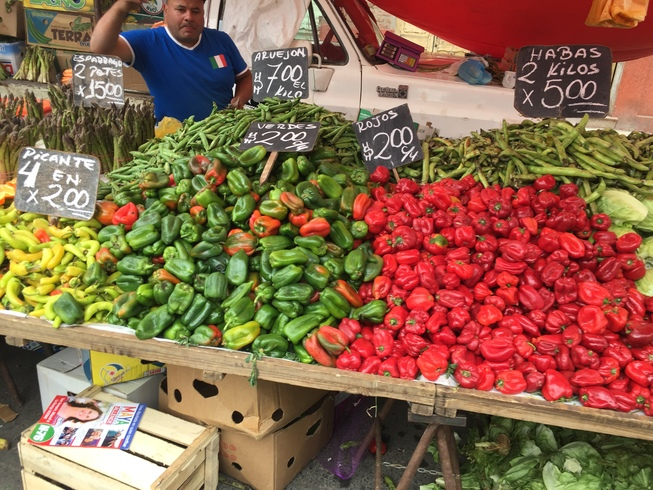precio: (511, 44, 617, 122), (10, 143, 109, 224), (349, 97, 429, 182), (249, 45, 320, 110), (237, 115, 325, 163), (67, 50, 126, 110)
